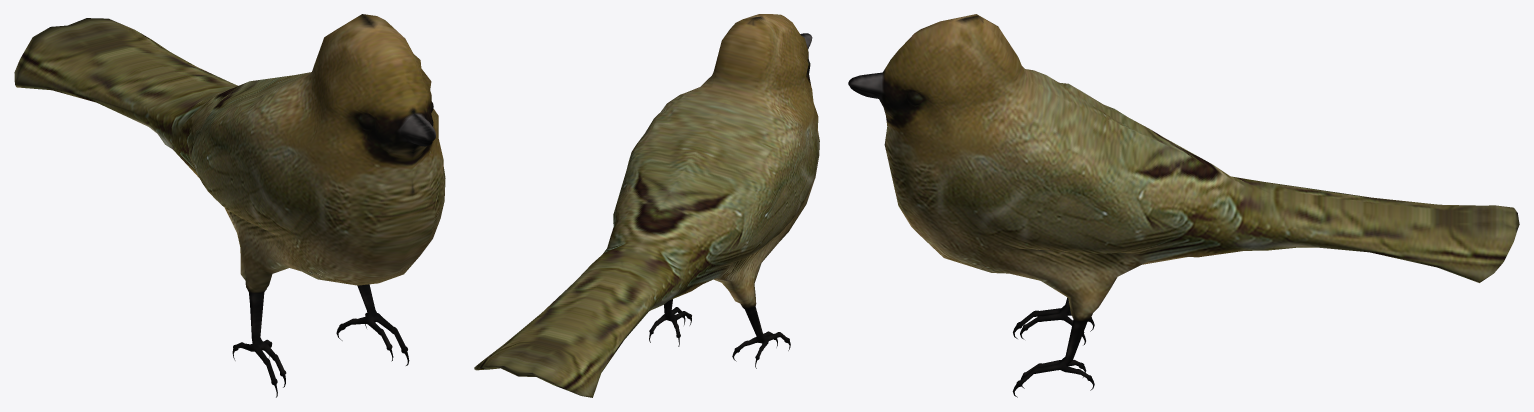
File: Cardinal.fbx
3 renders of one model, left to right at view 1: azimuth 30°, elevation 25°; view 2: azimuth 150°, elevation 25°; view 3: azimuth 270°, elevation 25°, orthographic. The views are drawn at different scales.
Visible parts, largest first — view 1: cardinal_f; view 2: cardinal_f; view 3: cardinal_f.
Boxes of the visible parts, x1,y1,x2,y2 form: cardinal_f: (14, 14, 445, 397); cardinal_f: (474, 14, 819, 397); cardinal_f: (848, 14, 1519, 397).
Size of the model in its own units: 8.68 by 17.95 by 30.93.
1 material, 1 textured.
